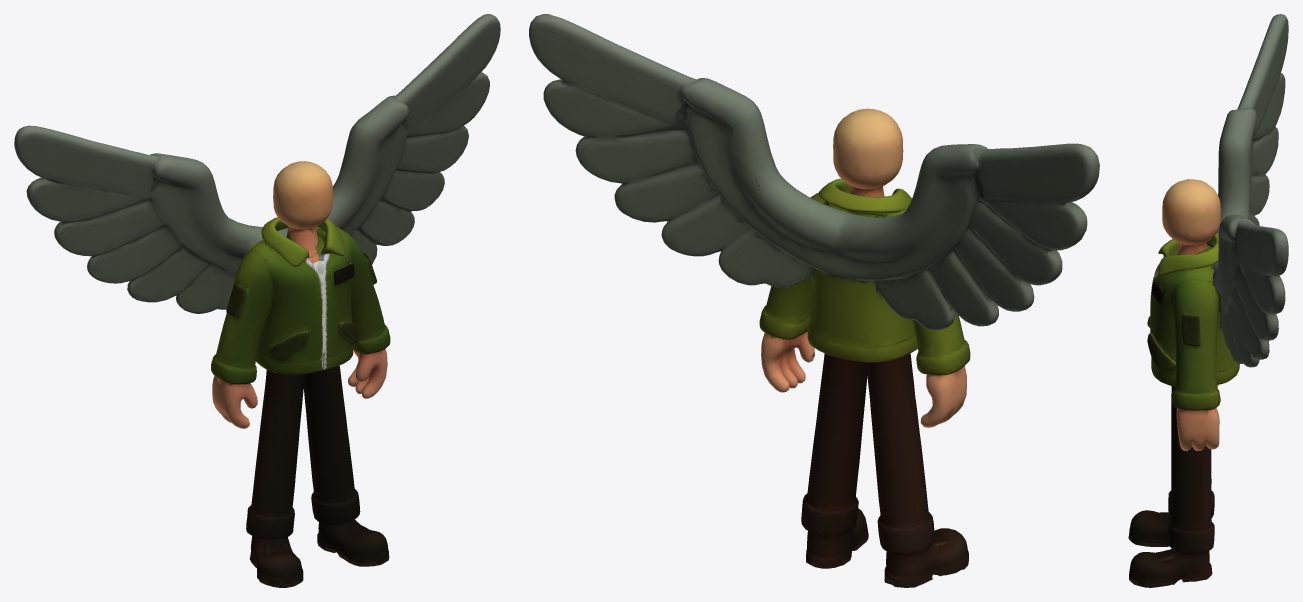
Rendered from player.glb.
The picture shows the model from 3 angles, left to right: view 1: azimuth 30°, elevation 25°; view 2: azimuth 150°, elevation 25°; view 3: azimuth 270°, elevation 25°; orthographic projection. The views are drawn at different scales.
Parts seen in each view (by area): view 1: world; view 2: world; view 3: world.
Part boxes in pixels (x1,y1,x2,y2): world: (14,14,500,587); world: (529,14,1099,587); world: (1128,14,1288,587).
Bounding box in the file's own units: 0.8685 × 0.7719 × 0.2572.
1 material, 1 textured.
